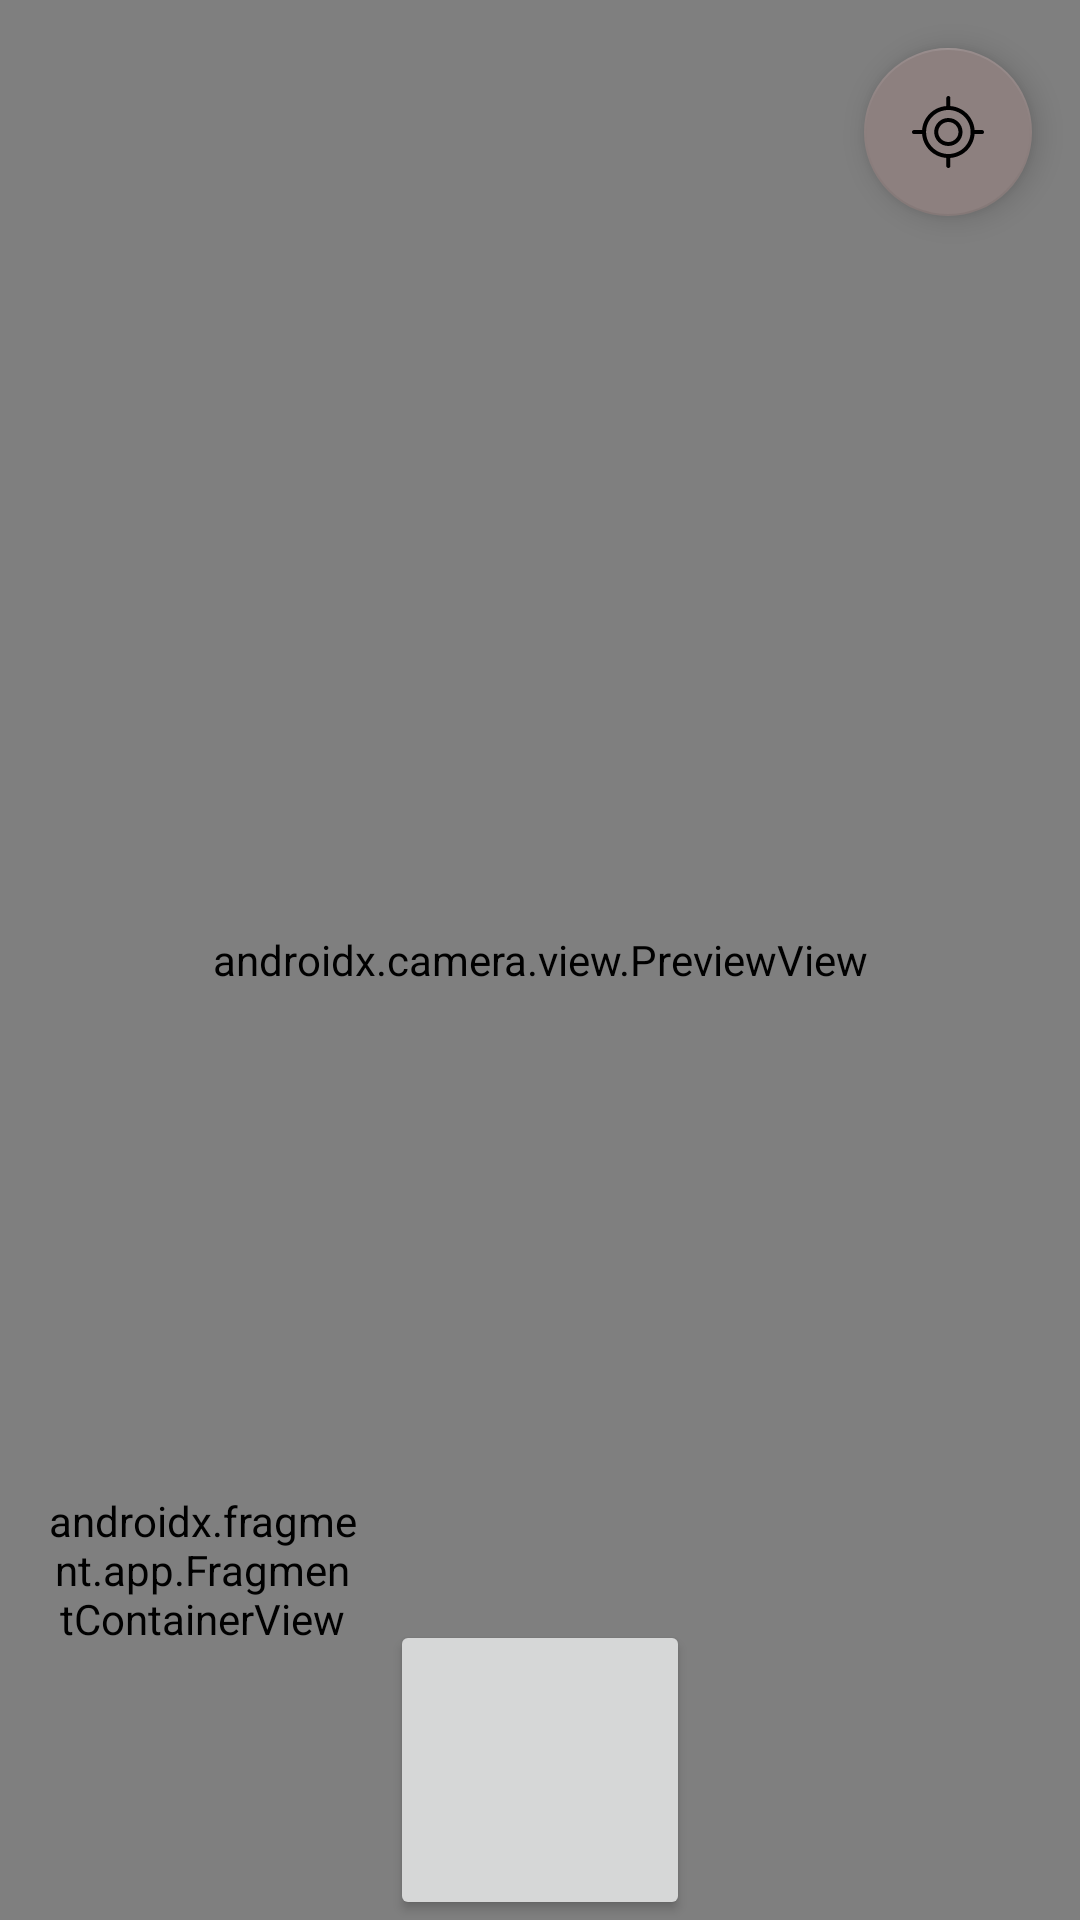

Icon bounding boxes for this 1080px×1920px phone screenshot, format detection(x1, y1, x2, y2):
target: detection(864, 48, 1032, 216)
